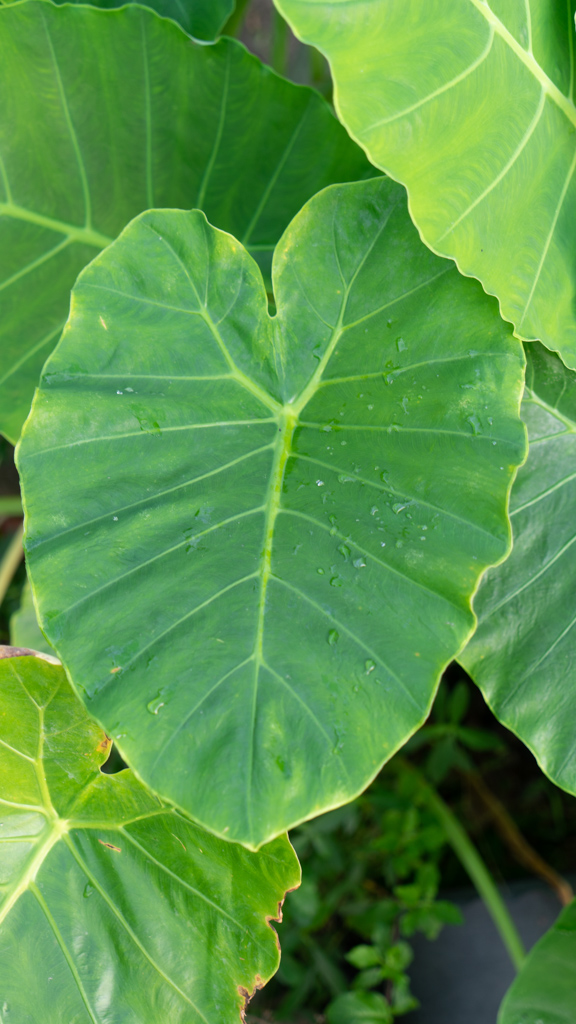frog-eye leafspot: (91, 834, 129, 861), (90, 727, 110, 755)
